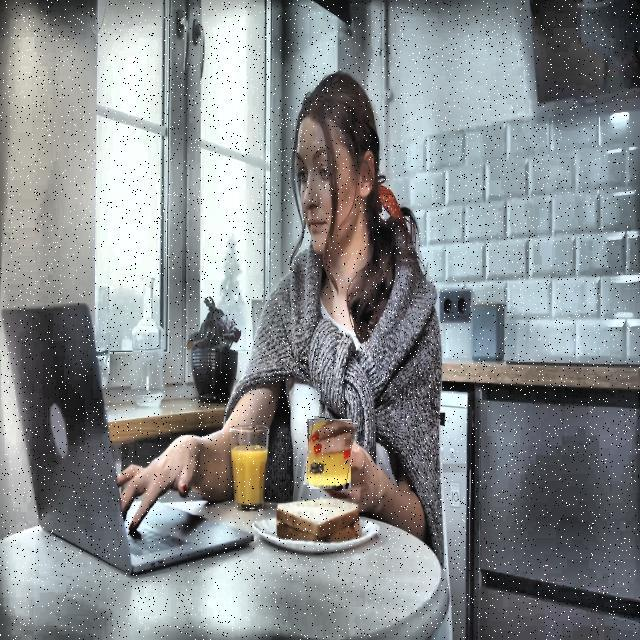Phone: (304, 418, 354, 490)
